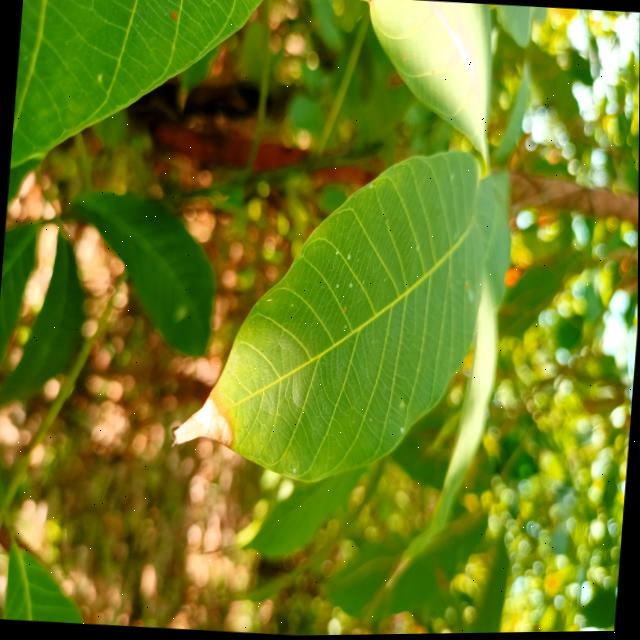Leaf-Blight: (168, 392, 236, 451)
